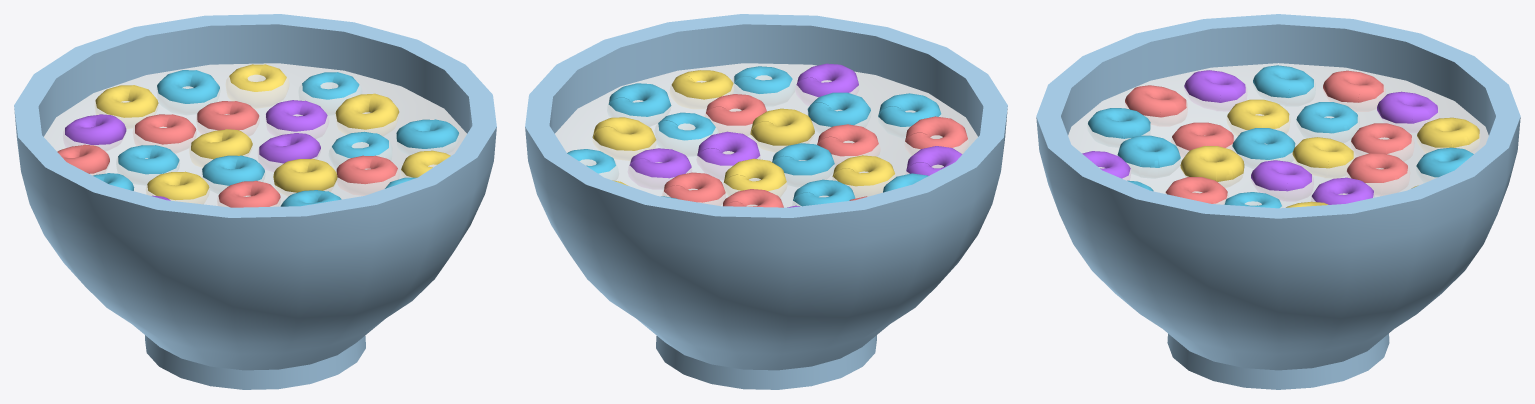
File: colorful_cereal.glb
3 views of the same model, side by side, from view 1: azimuth 30°, elevation 25°; view 2: azimuth 150°, elevation 25°; view 3: azimuth 270°, elevation 25° (orthographic).
Parts seen in each view (by area): view 1: pHelix30; view 2: pHelix30; view 3: pHelix30.
Boxes of the visible parts, left/top/right/bottom form: pHelix30: left=14, top=14, right=496, bottom=389; pHelix30: left=525, top=14, right=1007, bottom=389; pHelix30: left=1036, top=14, right=1520, bottom=389.
Bounding box in the file's own units: 0.1151 × 0.0597 × 0.1151.
